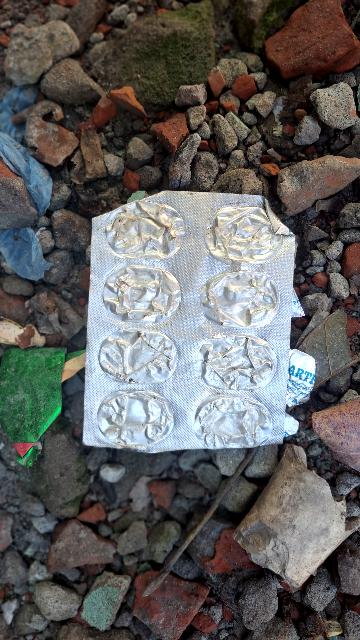medicine: (82, 185, 316, 455)
